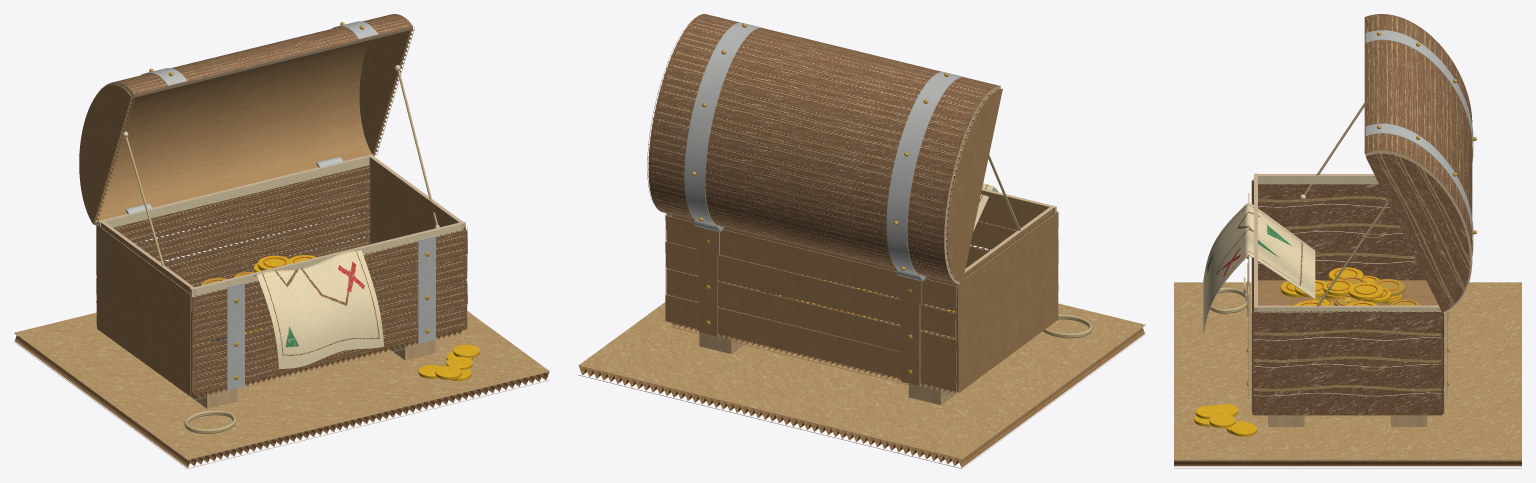
File: 24_cardboard_treasure_chest.glb
3 renders of one model, left to right at view 1: azimuth 30°, elevation 25°; view 2: azimuth 150°, elevation 25°; view 3: azimuth 270°, elevation 25°, orthographic. The views are drawn at different scales.
Parts seen in each view (by area): view 1: kraft, artwork_24_cardboard_treasure_chest, sand, flute, edge, foil, cream, clay_yellow, twine, wood; view 2: artwork_24_cardboard_treasure_chest, kraft, sand, foil, flute, edge, wood, twine; view 3: artwork_24_cardboard_treasure_chest, sand, edge, clay_yellow, flute, foil, cream, kraft, twine, foil_gold, wood, clay_orange.
Boxes of the visible parts, left/top/right/bottom form: kraft: left=79, top=30, right=463, bottom=396; artwork_24_cardboard_treasure_chest: left=113, top=14, right=467, bottom=394; sand: left=14, top=311, right=549, bottom=459; flute: left=14, top=29, right=549, bottom=467; edge: left=14, top=18, right=549, bottom=468; foil: left=125, top=21, right=435, bottom=390; cream: left=100, top=157, right=465, bottom=296; clay_yellow: left=193, top=255, right=479, bottom=380; twine: left=125, top=70, right=437, bottom=433; wood: left=191, top=340, right=435, bottom=408; artwork_24_cardboard_treasure_chest: left=648, top=14, right=999, bottom=283; kraft: left=665, top=89, right=1058, bottom=392; sand: left=578, top=302, right=1145, bottom=458; foil: left=684, top=22, right=963, bottom=281; flute: left=579, top=24, right=1144, bottom=467; edge: left=578, top=17, right=1145, bottom=468; wood: left=699, top=332, right=958, bottom=405; twine: left=988, top=155, right=1092, bottom=338; artwork_24_cardboard_treasure_chest: left=1203, top=14, right=1472, bottom=414; sand: left=1174, top=282, right=1521, bottom=459; edge: left=1174, top=39, right=1521, bottom=468; clay_yellow: left=1194, top=267, right=1401, bottom=436; flute: left=1174, top=152, right=1521, bottom=466; foil: left=1365, top=30, right=1473, bottom=249; cream: left=1258, top=176, right=1437, bottom=311; kraft: left=1258, top=280, right=1437, bottom=305; twine: left=1210, top=103, right=1387, bottom=314; foil_gold: left=1246, top=31, right=1476, bottom=385; wood: left=1268, top=415, right=1427, bottom=426; clay_orange: left=1286, top=268, right=1416, bottom=305.
Bounding box in the file's own units: 0.41 × 0.3253 × 0.34.
Materials: 20 (18 with a texture image).
